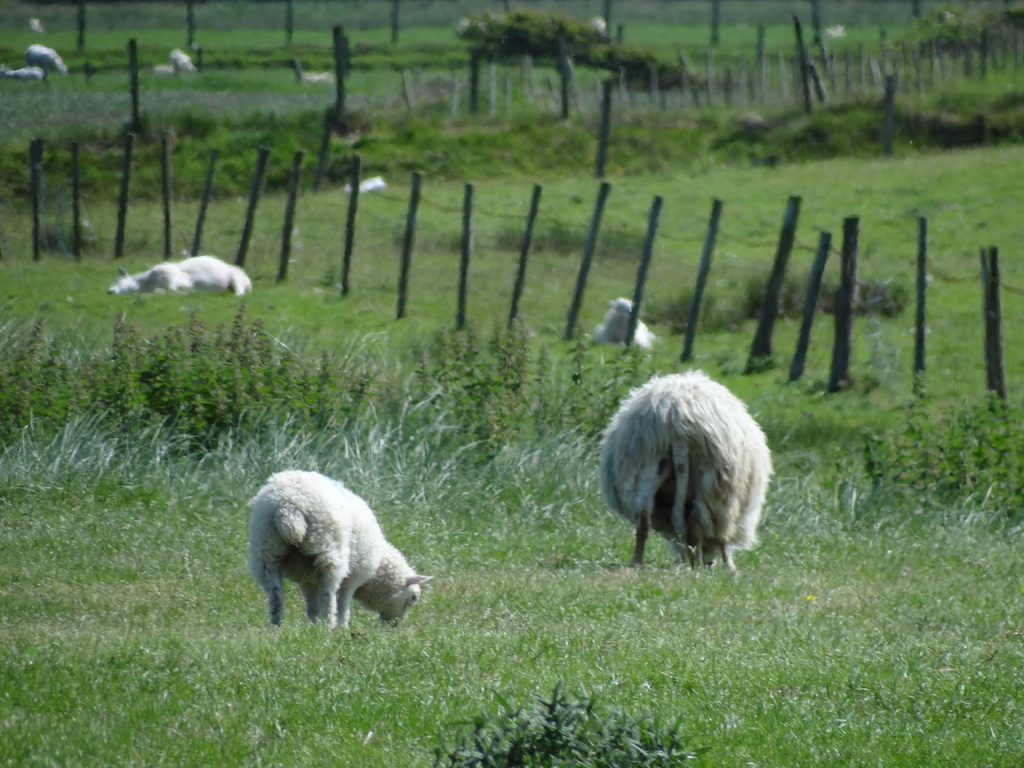sheep: (593, 366, 774, 577), (245, 465, 429, 627), (105, 251, 253, 293)
